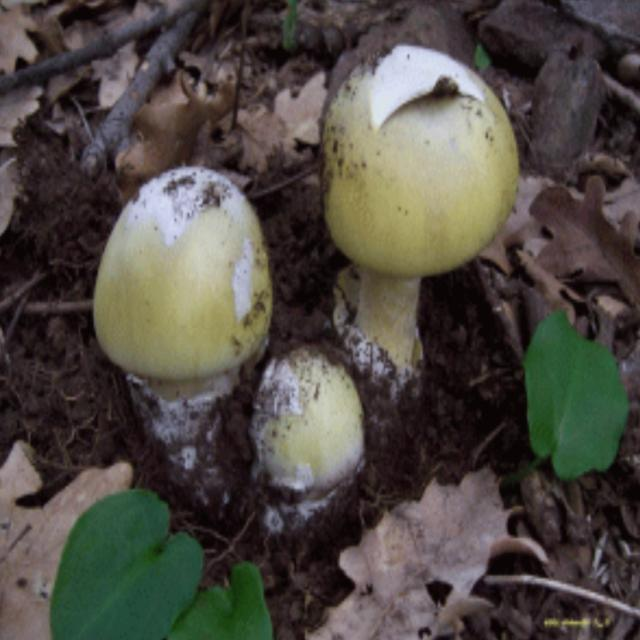death-cap: (317, 43, 521, 364), (92, 167, 273, 466), (254, 349, 363, 536)
